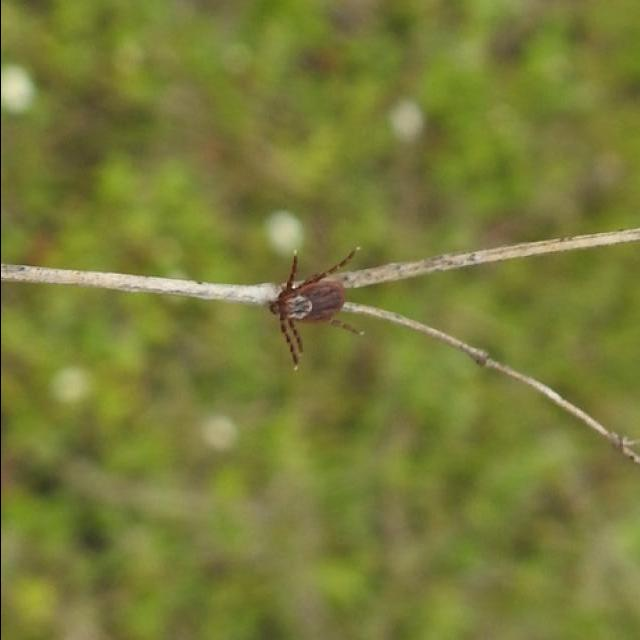Dermacentor Reticulatus-F: (265, 247, 360, 370)
